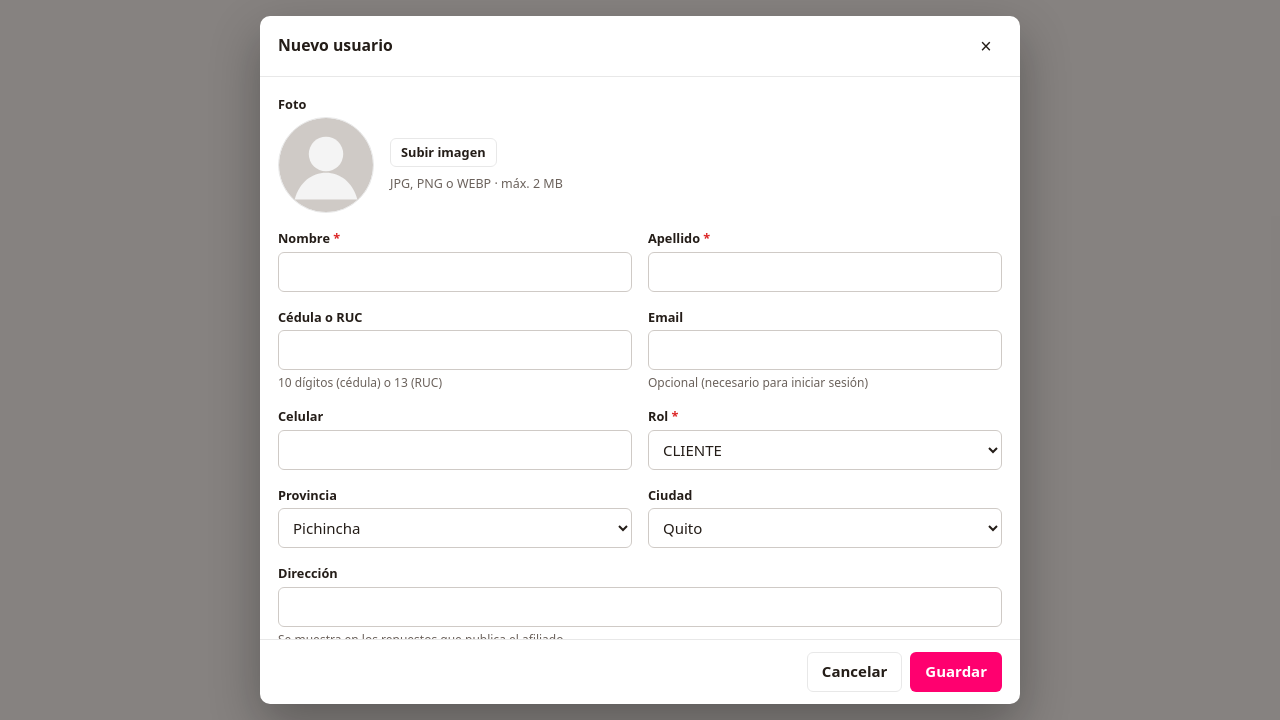
Test: UserFormModal password and branches › sellers choose their branches
Select "VENDEDOR" in the dropdown labelled "Rol *" at point(825, 450), box [648,430,1002,470]
(page scrolled)
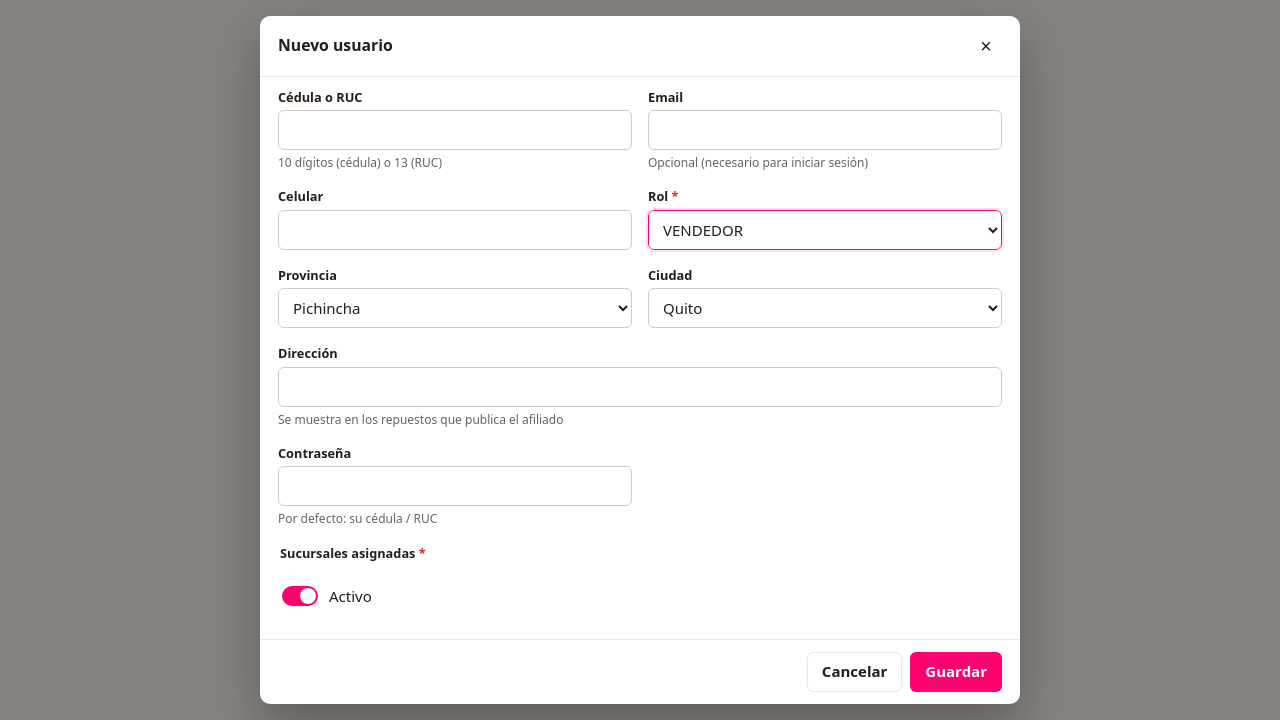
Expected: the text "Sucursales asignadas" is shown, [280,544,415,562]
